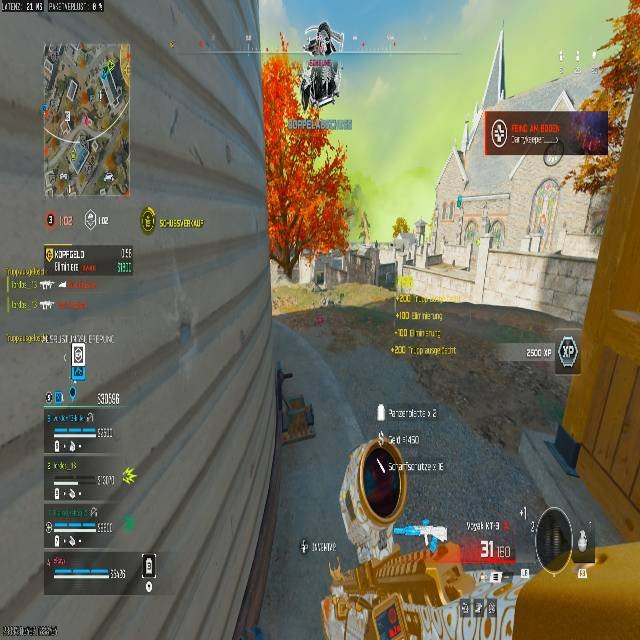head: (317, 22, 332, 37)
player: (301, 23, 340, 121)
